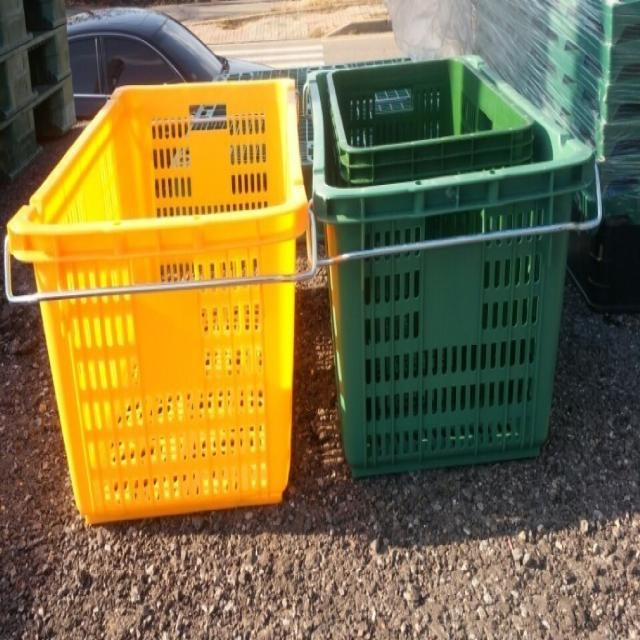basket: (0, 66, 343, 529), (319, 223, 595, 478), (300, 41, 604, 257)
